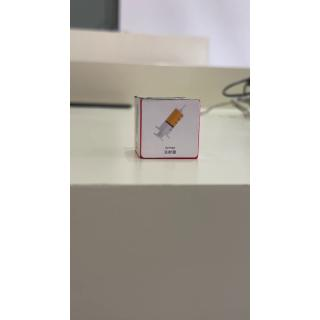Syringe: (141, 99, 199, 159)
